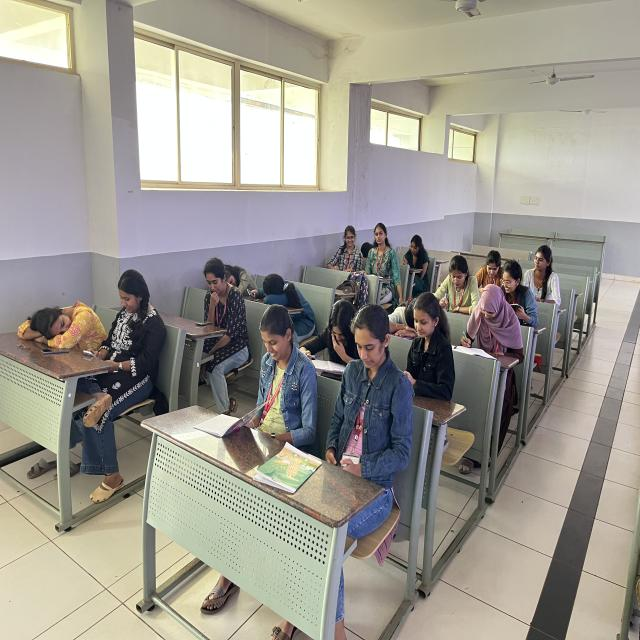Reading: (321, 280, 356, 380), (502, 250, 538, 321)
Sleeping: (9, 258, 111, 370), (258, 255, 316, 331), (385, 283, 426, 346), (205, 244, 247, 304)
Using Phone: (74, 247, 167, 417), (334, 310, 406, 500), (240, 306, 322, 431), (182, 247, 240, 362), (440, 256, 480, 316)
Writing: (457, 275, 518, 375)
